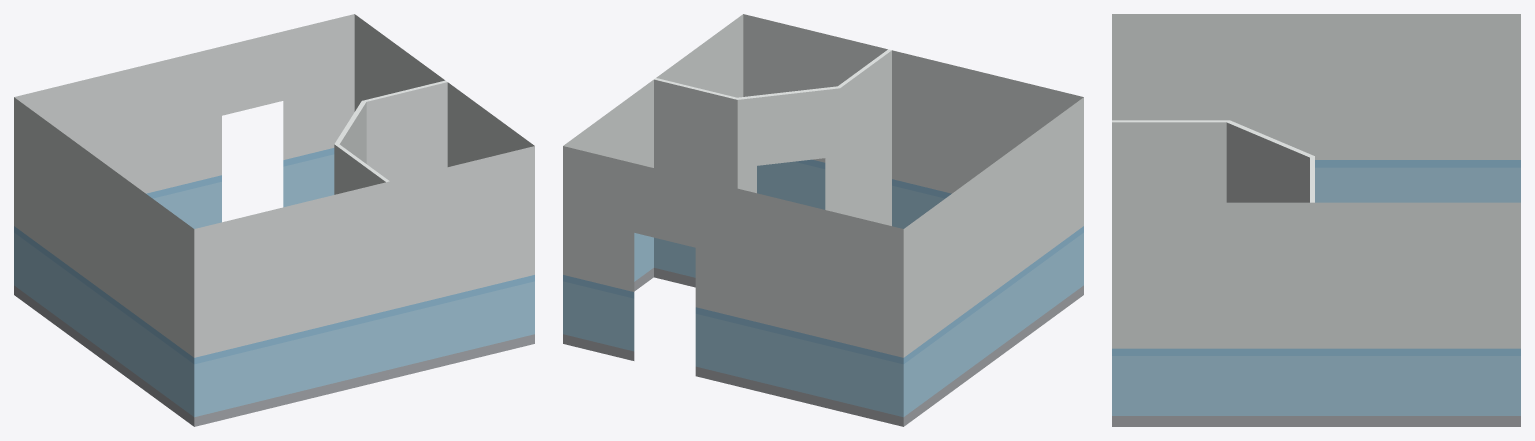
File: Walls.fbx
The picture shows the model from 3 angles, left to right: view 1: azimuth 30°, elevation 25°; view 2: azimuth 150°, elevation 25°; view 3: azimuth 270°, elevation 25°; orthographic projection. The views are drawn at different scales.
Visible parts, largest first — view 1: Walls; view 2: Walls; view 3: Walls.
Boxes of the visible parts, box(x1,y1,x2,y2) form: Walls: box(14, 14, 534, 426); Walls: box(563, 14, 1083, 426); Walls: box(1112, 14, 1520, 426).
Bounding box in the file's own units: 5.4 × 3 × 4.95.
